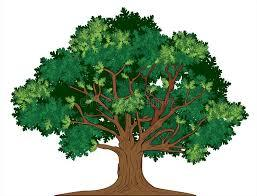tree: (12, 7, 251, 196)
